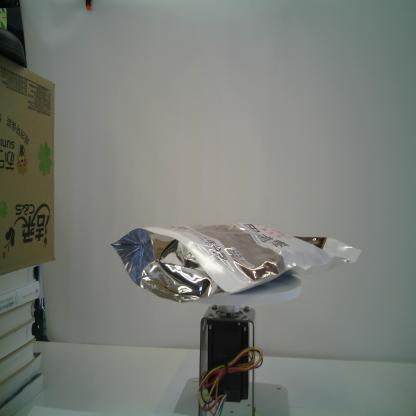Dried Food: (109, 220, 365, 305)
